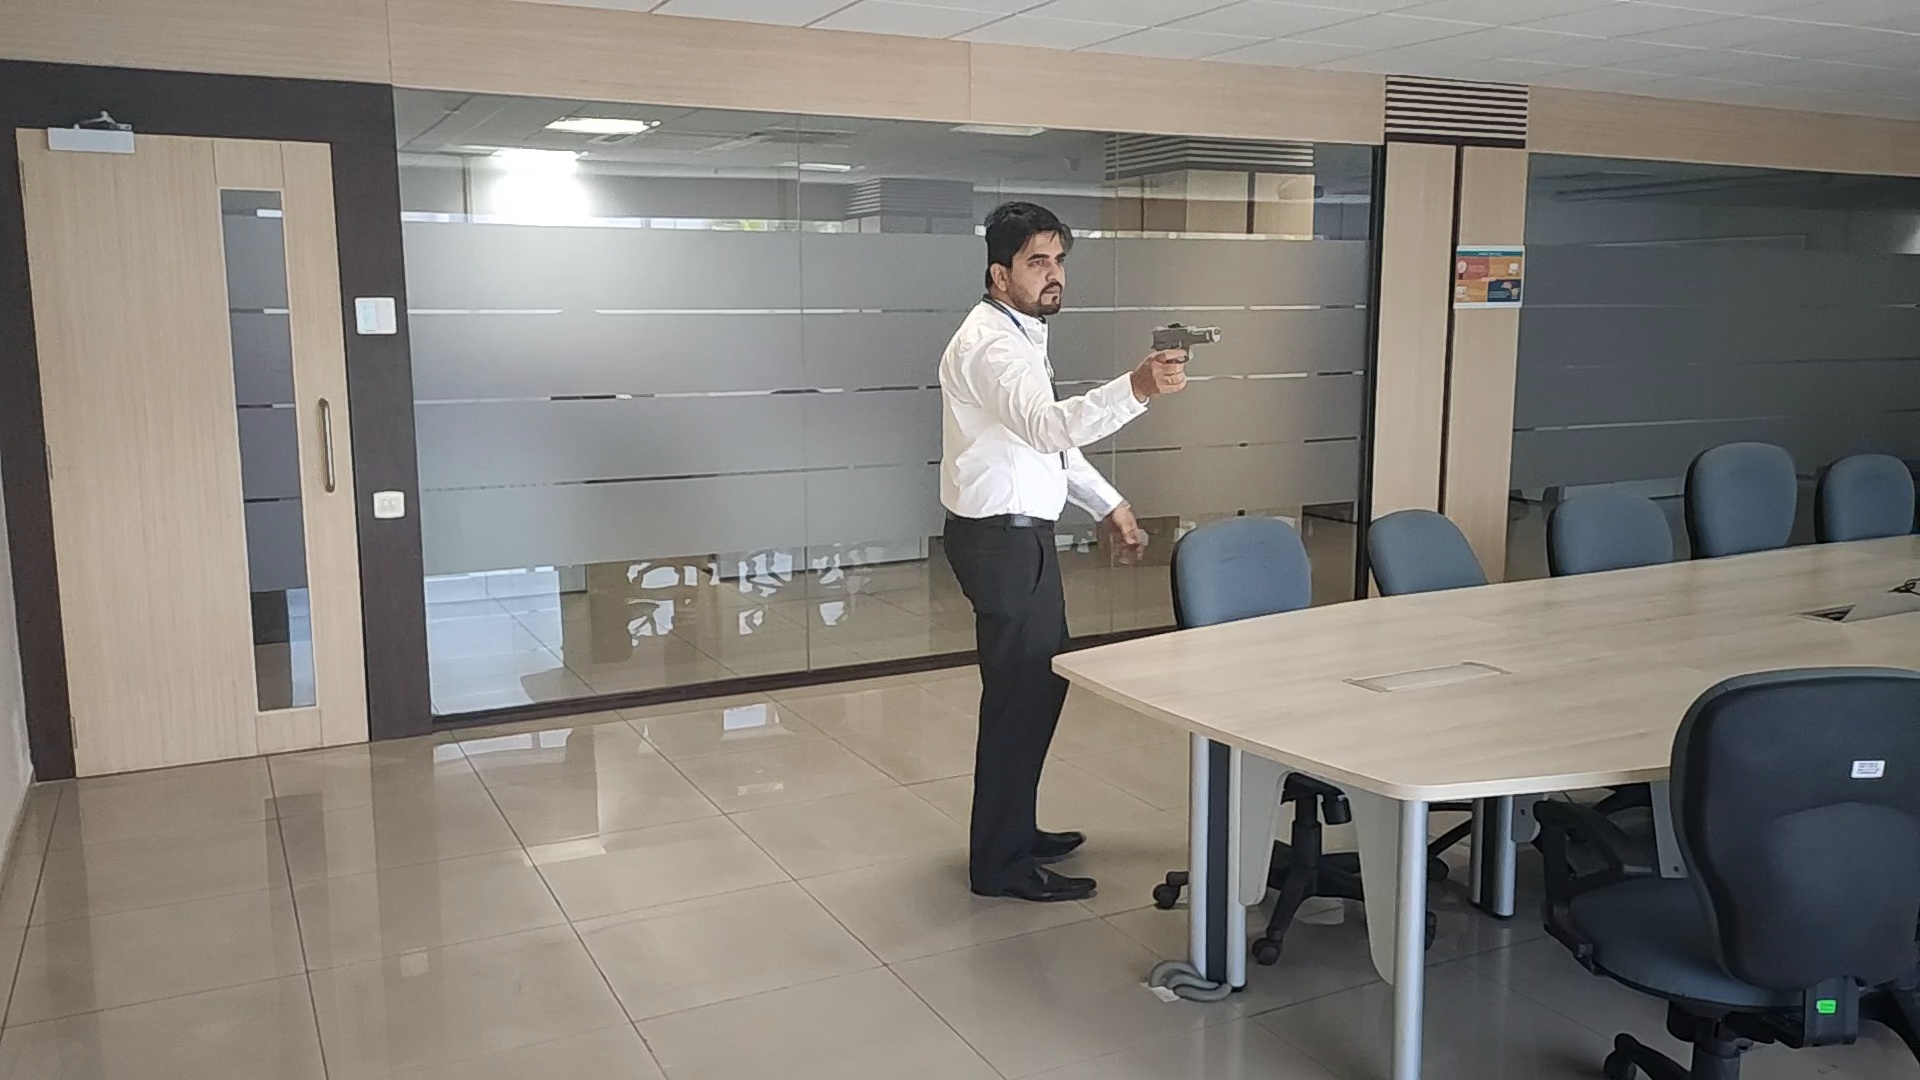gun: (1149, 320, 1222, 363)
